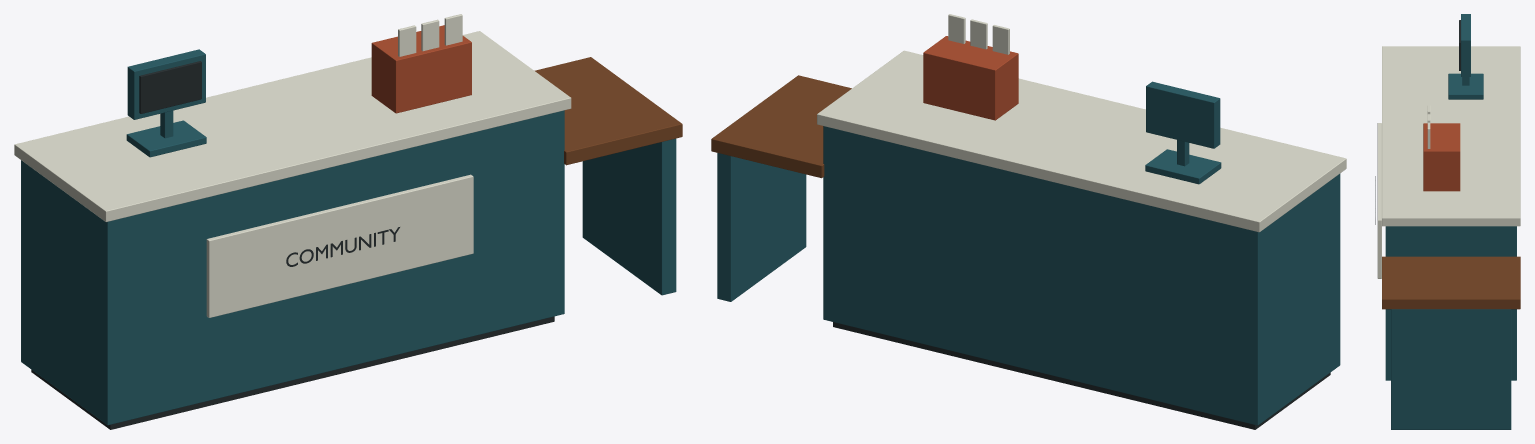
Rendered from community-club-reception.glb.
3 views of the same model, side by side, from view 1: azimuth 30°, elevation 25°; view 2: azimuth 150°, elevation 25°; view 3: azimuth 270°, elevation 25° (orthographic). The views are drawn at different scales.
Visible parts, largest first — view 1: Counter_Body, Worktop, Replaceable_Community_Panel, Accessible_Leg, Accessible_Desk, Brochure_Holder, Counter_Base, Screen, Screen_Housing, Terminal_Foot, Editable_Label_COMMUNITY; view 2: Counter_Body, Worktop, Accessible_Leg, Accessible_Desk, Brochure_Holder, Screen_Housing, Counter_Base, Terminal_Foot; view 3: Worktop, Accessible_Leg, Accessible_Desk, Counter_Body, Brochure_Holder, Terminal_Foot, Replaceable_Community_Panel, Screen_Housing.
Part boxes in pixels (x1=…): Counter_Body: x1=21, y1=110, x2=564, y2=425; Worktop: x1=14, y1=31, x2=571, y2=221; Replaceable_Community_Panel: x1=206, y1=174, x2=473, y2=317; Accessible_Leg: x1=582, y1=138, x2=676, y2=295; Accessible_Desk: x1=534, y1=57, x2=682, y2=165; Brochure_Holder: x1=371, y1=25, x2=471, y2=113; Counter_Base: x1=31, y1=316, x2=554, y2=429; Screen: x1=139, y1=61, x2=201, y2=113; Screen_Housing: x1=127, y1=49, x2=205, y2=119; Terminal_Foot: x1=126, y1=120, x2=206, y2=157; Editable_Label_COMMUNITY: x1=286, y1=227, x2=399, y2=266; Counter_Body: x1=823, y1=126, x2=1340, y2=425; Worktop: x1=817, y1=50, x2=1346, y2=232; Accessible_Leg: x1=717, y1=153, x2=806, y2=301; Accessible_Desk: x1=711, y1=75, x2=851, y2=178; Brochure_Holder: x1=923, y1=36, x2=1018, y2=120; Screen_Housing: x1=1146, y1=81, x2=1220, y2=148; Counter_Base: x1=833, y1=322, x2=1330, y2=429; Terminal_Foot: x1=1145, y1=149, x2=1221, y2=184; Worktop: x1=1382, y1=46, x2=1520, y2=226; Accessible_Leg: x1=1391, y1=309, x2=1511, y2=429; Accessible_Desk: x1=1382, y1=256, x2=1520, y2=309; Counter_Body: x1=1385, y1=226, x2=1516, y2=380; Brochure_Holder: x1=1423, y1=123, x2=1460, y2=191; Terminal_Foot: x1=1448, y1=73, x2=1483, y2=99; Replaceable_Community_Panel: x1=1377, y1=123, x2=1381, y2=278; Screen_Housing: x1=1461, y1=14, x2=1470, y2=76.
Size of the model in its own units: 2.73 by 1.39 by 0.7845.
